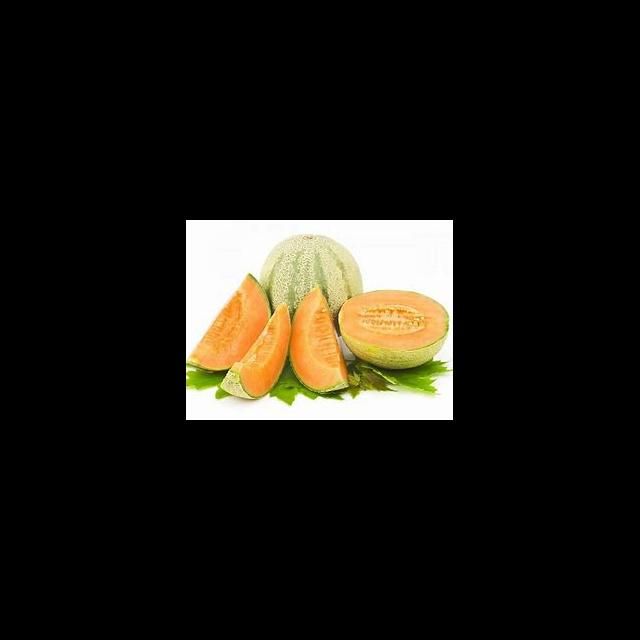Hami Melon: (340, 289, 450, 369), (188, 273, 270, 374), (222, 304, 293, 399), (293, 285, 351, 394)
